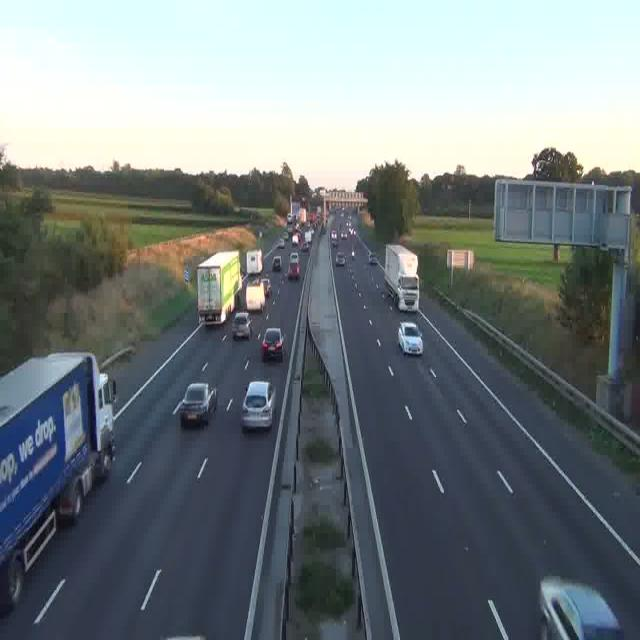car: (538, 576, 622, 639), (181, 381, 217, 426), (243, 382, 275, 431), (398, 322, 422, 356), (262, 328, 284, 360), (232, 312, 252, 340), (287, 261, 299, 280), (271, 256, 281, 272), (369, 252, 379, 266), (336, 250, 345, 265), (275, 240, 284, 252), (300, 243, 308, 254), (330, 230, 337, 241)
truck: (0, 352, 118, 611), (192, 250, 242, 324), (383, 245, 418, 311), (246, 276, 266, 312), (245, 248, 262, 275), (300, 209, 308, 227)
